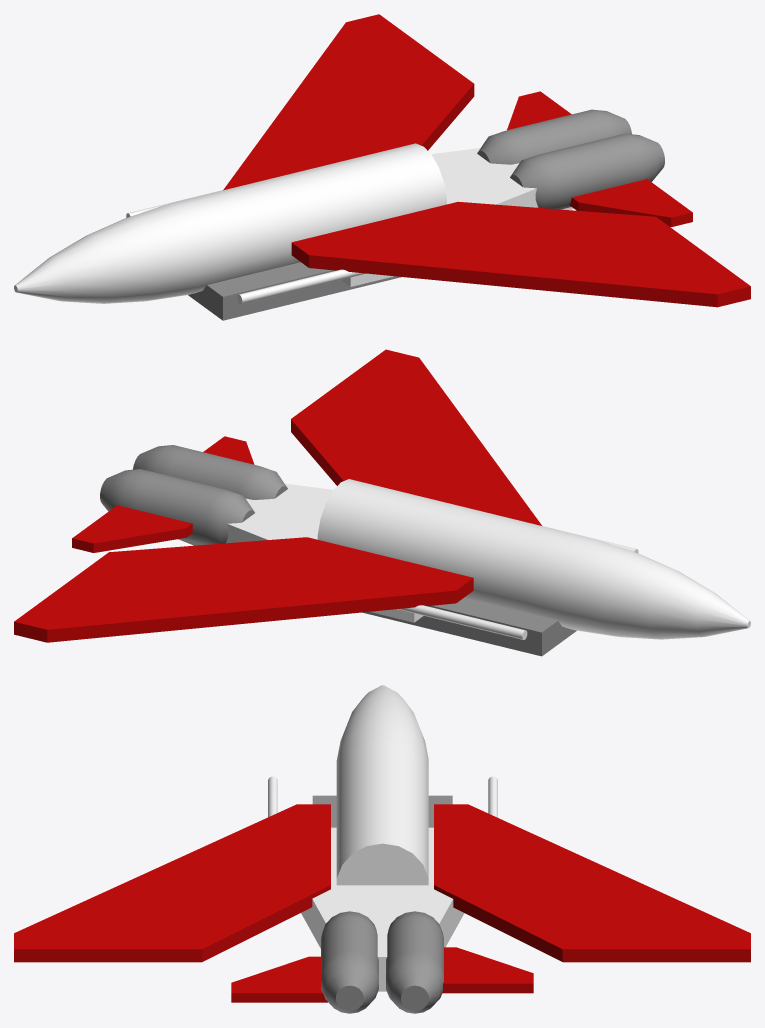
Rendered from Player_Demo 1.FBX.
The picture shows the model from 3 angles, top to bottom: view 1: azimuth 30°, elevation 25°; view 2: azimuth 150°, elevation 25°; view 3: azimuth 270°, elevation 25°; orthographic projection.
Parts seen in each view (by area): view 1: Cylinder001, Box002, Box003, Cylinder002, Cylinder003, Box001, Box006, Box005, Box004, Cylinder005; view 2: Cylinder001, Box003, Box002, Cylinder003, Cylinder002, Box001, Box006, Box004, Cylinder004, Box005; view 3: Box002, Box003, Cylinder001, Box001, Cylinder002, Cylinder003, Box004, Box005, Box006.
Part boxes in pixels (<box>): Cylinder001: <box>14,143,446,303</box>; Box002: <box>291,201,750,307</box>; Box003: <box>223,14,474,190</box>; Cylinder002: <box>510,133,664,209</box>; Cylinder003: <box>477,109,631,164</box>; Box001: <box>341,148,573,286</box>; Box006: <box>188,262,401,320</box>; Box005: <box>569,178,692,227</box>; Box004: <box>507,91,571,129</box>; Cylinder005: <box>237,269,365,304</box>; Cylinder001: <box>317,479,750,639</box>; Box003: <box>14,537,473,642</box>; Box002: <box>291,349,541,525</box>; Cylinder003: <box>100,469,254,544</box>; Cylinder002: <box>133,445,287,499</box>; Box001: <box>178,483,423,622</box>; Box006: <box>362,598,576,656</box>; Box004: <box>72,505,192,552</box>; Cylinder004: <box>397,605,527,639</box>; Box005: <box>203,436,254,464</box>; Box002: <box>14,804,330,962</box>; Box003: <box>434,804,750,962</box>; Cylinder001: <box>336,685,428,885</box>; Box001: <box>301,827,464,991</box>; Cylinder002: <box>321,911,378,1013</box>; Cylinder003: <box>386,911,443,1013</box>; Box004: <box>442,947,533,993</box>; Box005: <box>231,956,327,1002</box>; Box006: <box>312,795,452,827</box>.
Bounding box in the file's own units: 124 × 17.23 × 128.
